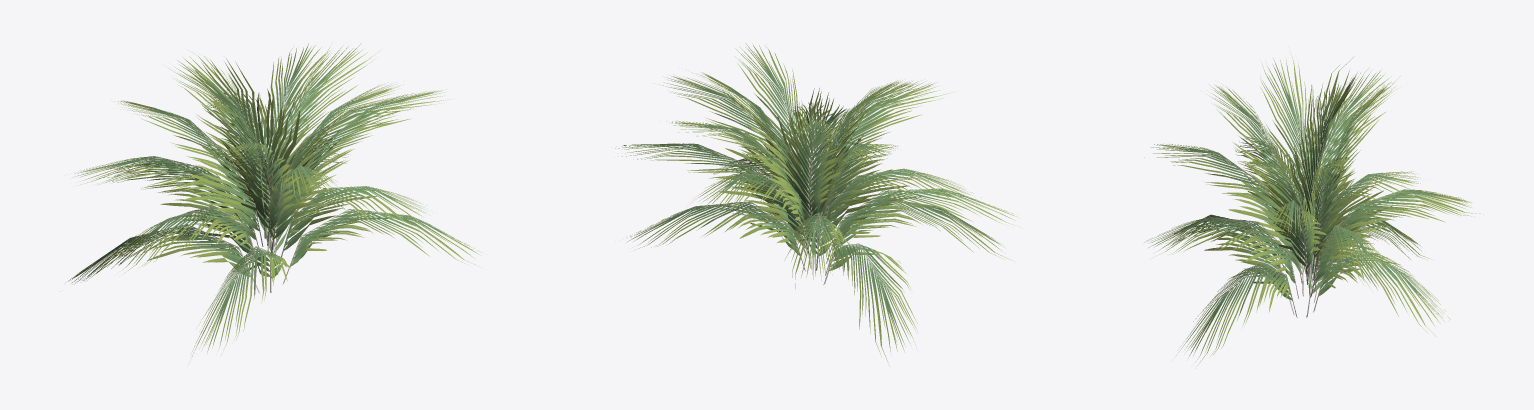
The model's file is m_palm_p2_31_leaf_0.glb.
3 renders of one model, left to right at view 1: azimuth 30°, elevation 25°; view 2: azimuth 150°, elevation 25°; view 3: azimuth 270°, elevation 25°, orthographic. The views are drawn at different scales.
Parts seen in each view (by area): view 1: M_Palm_P2_31_Leaf_0; view 2: M_Palm_P2_31_Leaf_0; view 3: M_Palm_P2_31_Leaf_0.
Part boxes in pixels (x1,y1,x2,y2): M_Palm_P2_31_Leaf_0: (68,43,485,364); M_Palm_P2_31_Leaf_0: (615,43,1020,366); M_Palm_P2_31_Leaf_0: (1144,47,1483,368).
Bounding box in the file's own units: 3.67 × 2.06 × 2.86.
Materials: 1 (1 with a texture image).
